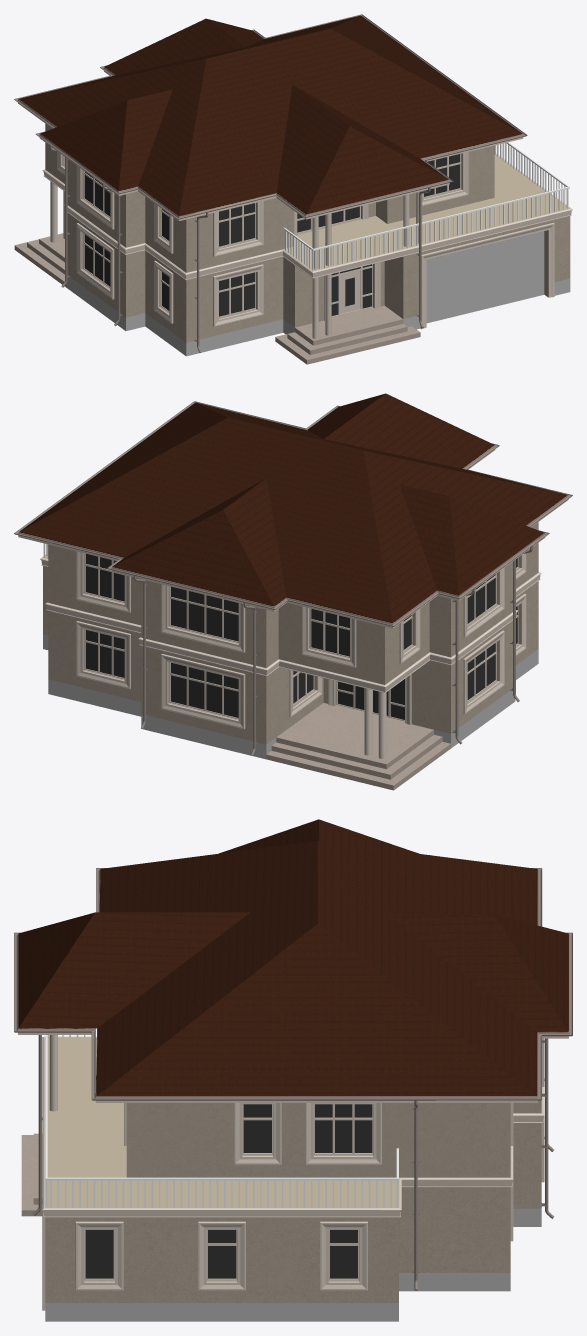
The model's file is house2story.glb.
3 views of the same model, one above another, from view 1: azimuth 30°, elevation 25°; view 2: azimuth 150°, elevation 25°; view 3: azimuth 270°, elevation 25° (orthographic). The views are drawn at different scales.
Visible parts, largest first — view 1: two_story_villa_house; view 2: two_story_villa_house; view 3: two_story_villa_house.
Boxes of the visible parts, x1,y1,x2,y2 form: two_story_villa_house: (14, 14, 572, 364); two_story_villa_house: (14, 393, 572, 790); two_story_villa_house: (14, 819, 572, 1321).
Size of the model in its own units: 15.3 by 8.3 by 13.77.
Materials: 11 (10 with a texture image).
